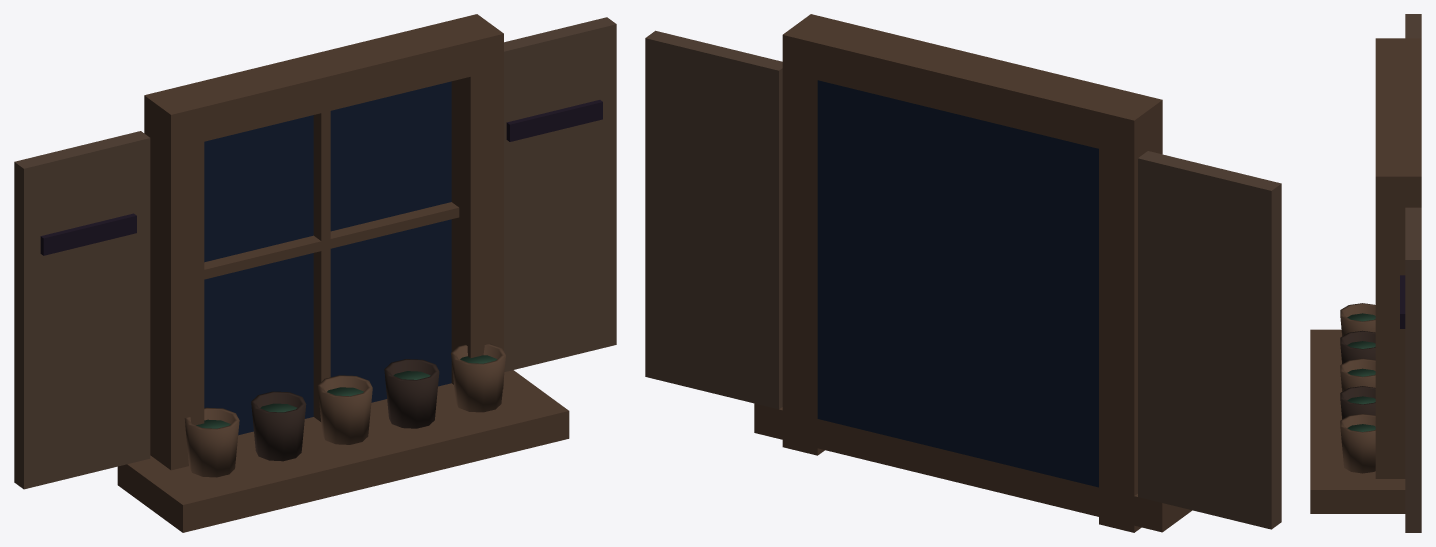
File: sill_cups.glb
3 renders of one model, left to right at view 1: azimuth 30°, elevation 25°; view 2: azimuth 150°, elevation 25°; view 3: azimuth 270°, elevation 25°, orthographic. The views are drawn at different scales.
Visible parts, largest first — view 1: sill_cups; view 2: sill_cups; view 3: sill_cups.
Part boxes in pixels (x1=…): sill_cups: x1=14, y1=14, x2=616, y2=532; sill_cups: x1=645, y1=14, x2=1281, y2=532; sill_cups: x1=1310, y1=14, x2=1421, y2=532.
Bounding box in the file's own units: 0.89 × 0.56 × 0.17.
